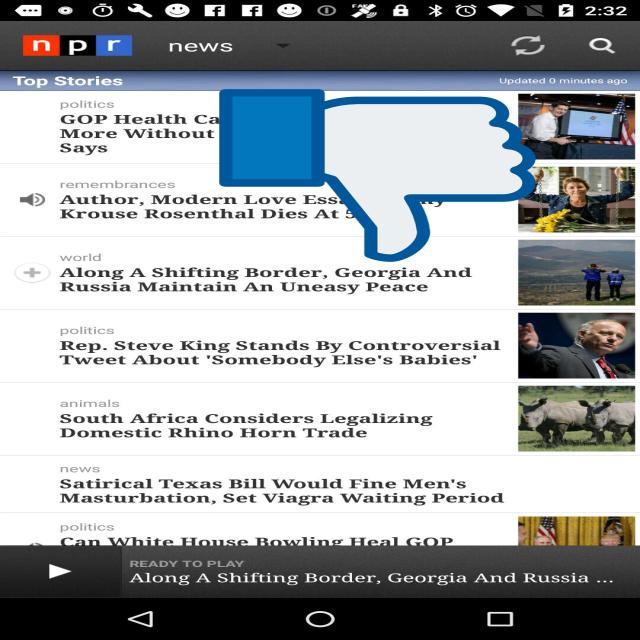obstruction: (219, 85, 536, 266)
